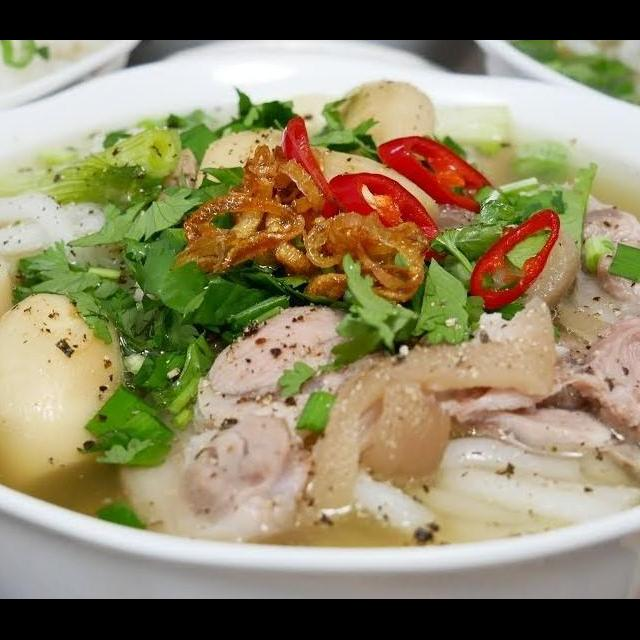banh hu tieu: (337, 417, 640, 561)
hu tieu: (0, 86, 640, 599)
thit heo: (191, 292, 441, 441), (558, 176, 640, 364), (547, 305, 640, 460)
